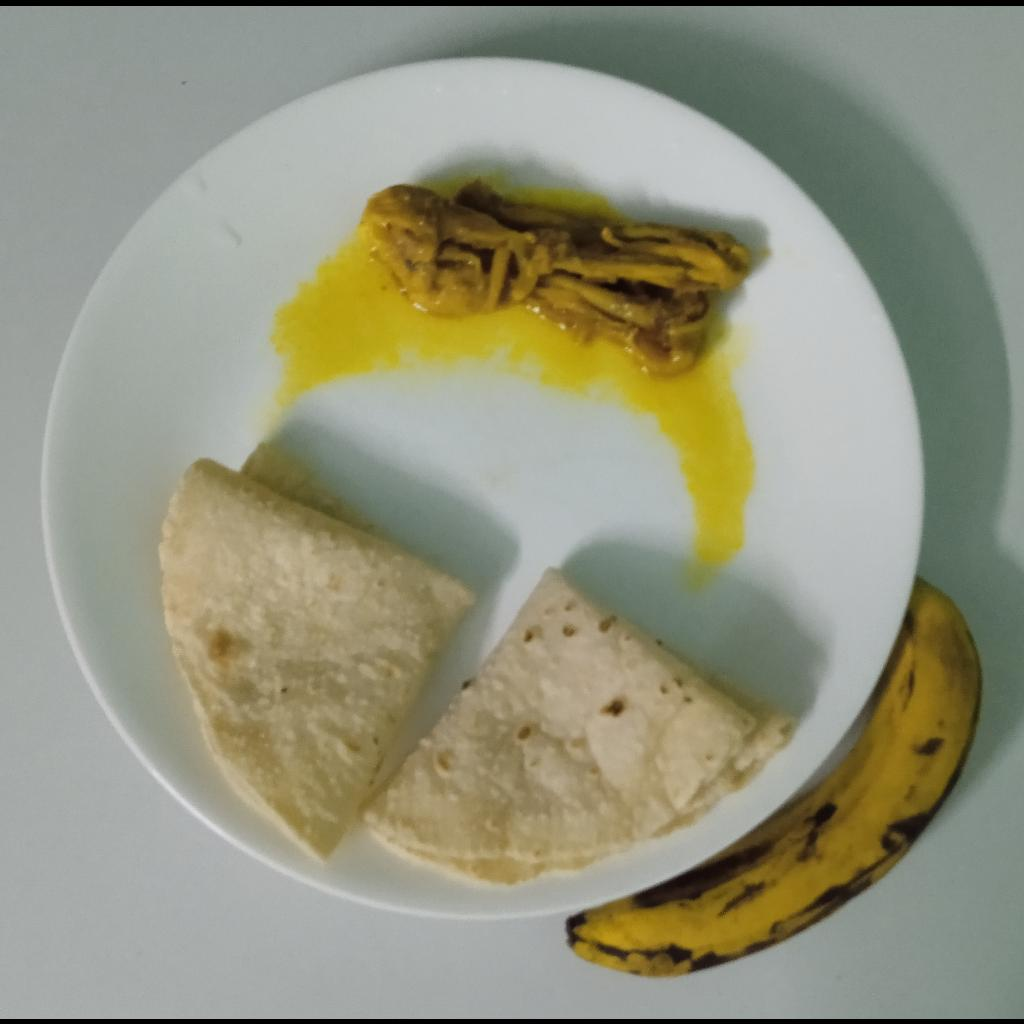banana: (568, 572, 985, 975)
chicken: (366, 175, 756, 379)
ruti: (363, 564, 798, 885), (157, 440, 477, 867)
